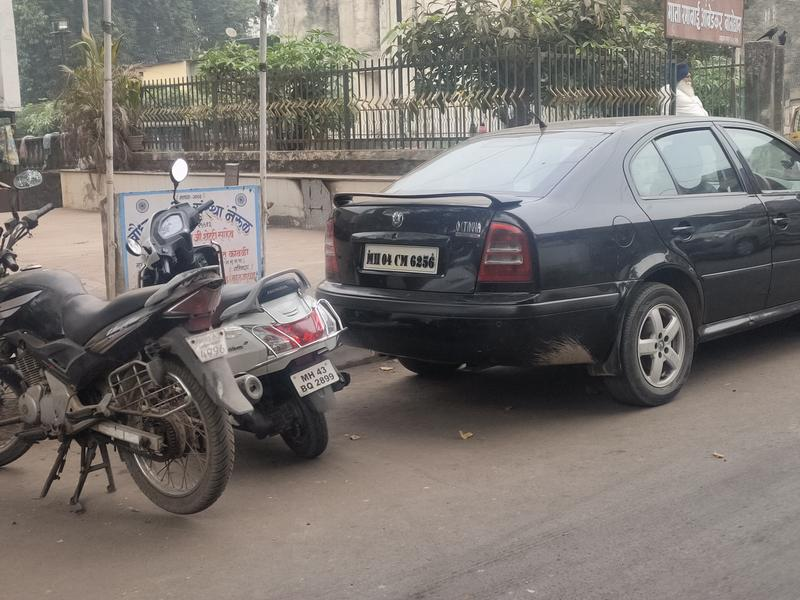license_plate: (359, 239, 439, 288), (287, 359, 347, 399), (181, 327, 233, 363)
